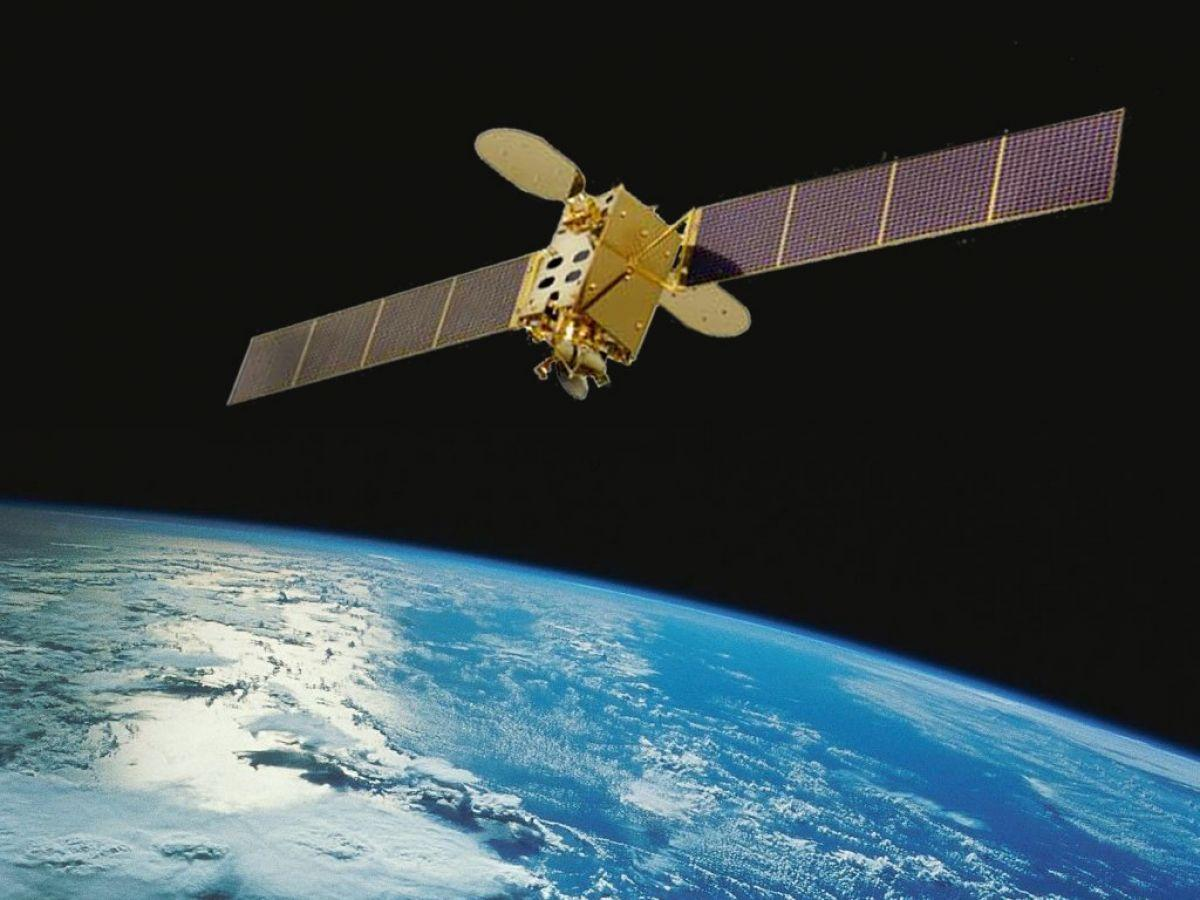antenna: (474, 128, 589, 202), (652, 272, 758, 344)
body: (527, 192, 687, 404)
solar: (687, 105, 1126, 286), (227, 245, 549, 413)
